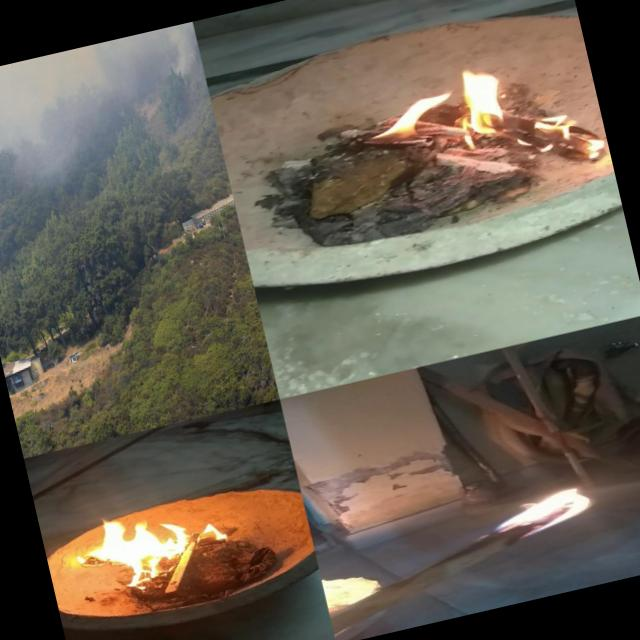fire: (338, 29, 604, 207), (56, 482, 242, 600), (472, 465, 612, 552)
smoke: (0, 21, 222, 210)
